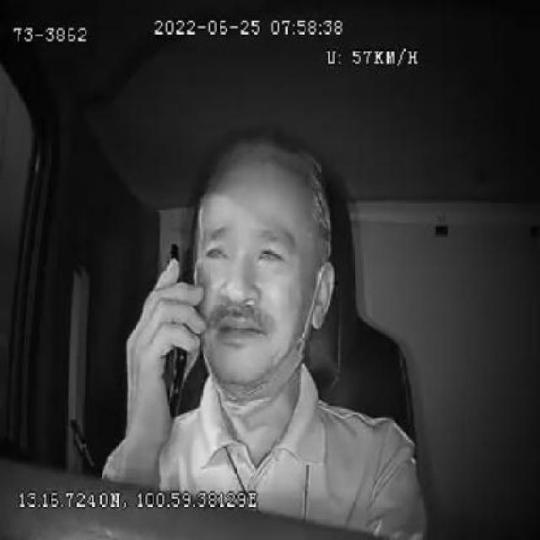phone: (162, 241, 190, 422)
